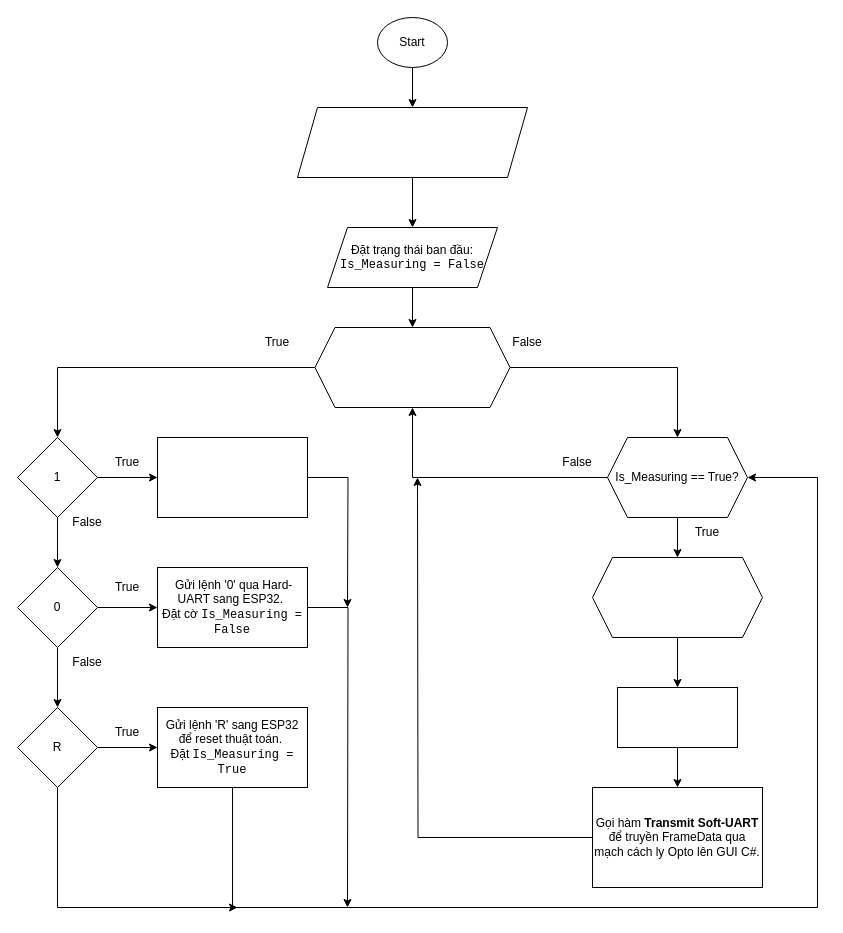
Some shapes in this 843 by 933 pixel diagram are drawn without their labels. Here are the shapes that lost their labels. From the top down, the box of each, then its label:
(296, 106, 528, 178): Cấu hình cổng Soft-UART (RX, TX) Cấu hình cổng Hard-UART
(314, 326, 510, 408): Đọc bộ đệm (Buffer) của Soft-UART. Có dữ liệu (lệnh) từ GUI gửi xuống không?
(156, 436, 308, 518): Gửi lệnh '1' qua Hard-UART sang ESP32. Đặt cờ Is_Measuring = True
(592, 556, 762, 638): Kiểm tra Hard-UART, ESP32 có gửi dữ liệu lên không?
(616, 686, 738, 748): Đọc chuỗi kết quả Đóng gói chuỗi vào FrameData
